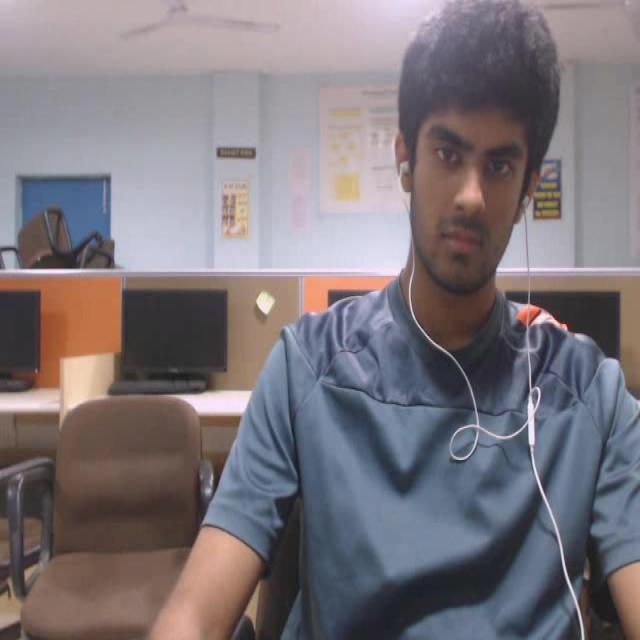Engaged: (371, 0, 574, 302)
